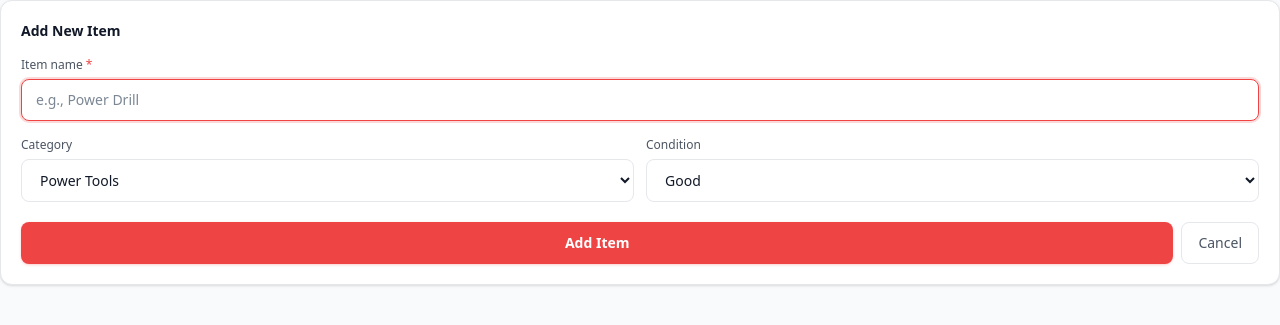
Test: ItemForm › shows validation error when item name is empty on submit
Step 1. Click the button "Add Item" → (597, 243), box [21,222,1173,264]
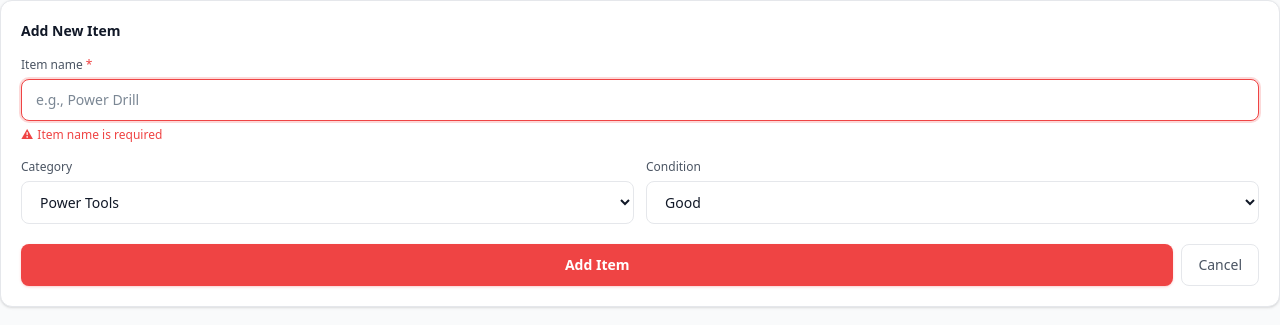
Expected: the text "⚠ Item name is required" is shown, [21,126,162,143]
